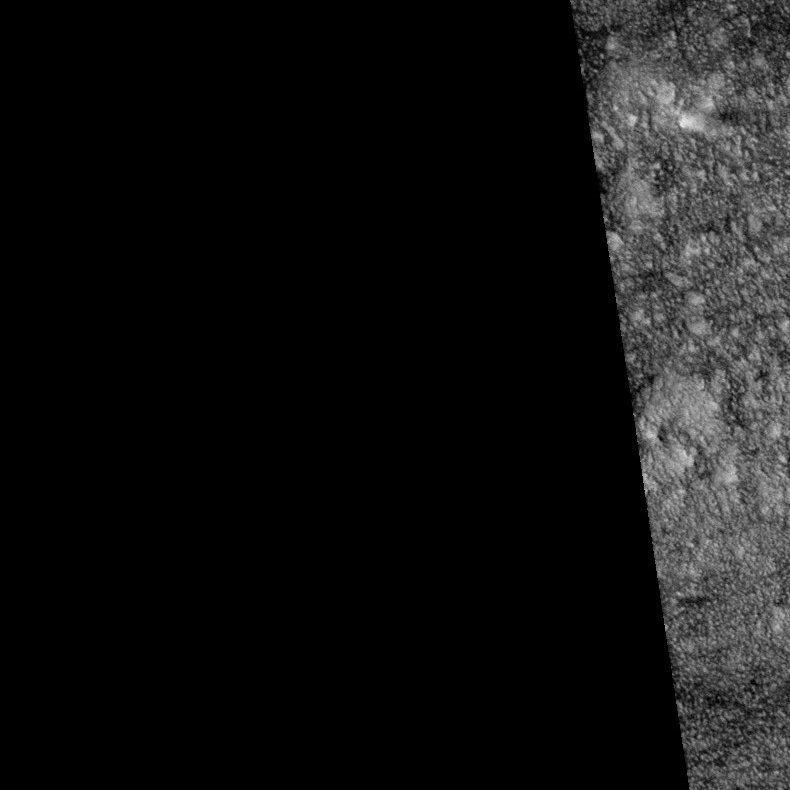dust_devil: (677, 104, 777, 142)
